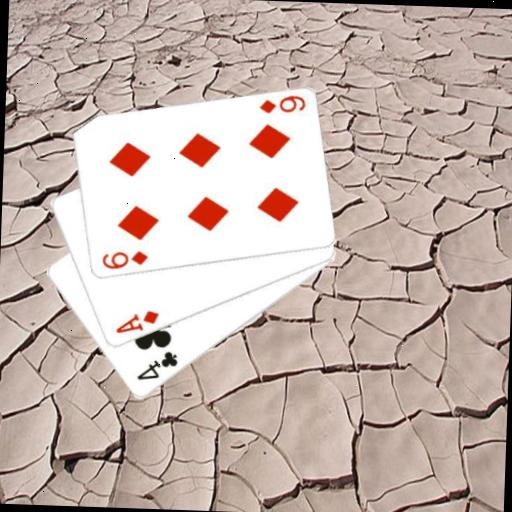4C: (133, 347, 180, 384)
6D: (98, 247, 149, 273), (256, 92, 307, 117)
AD: (112, 306, 160, 337)
